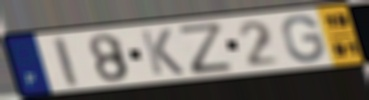2: (238, 19, 282, 68)
8: (87, 32, 131, 83)
G: (280, 13, 327, 65)
I: (50, 34, 82, 88)
K: (138, 28, 187, 77)
Z: (175, 20, 236, 76)
